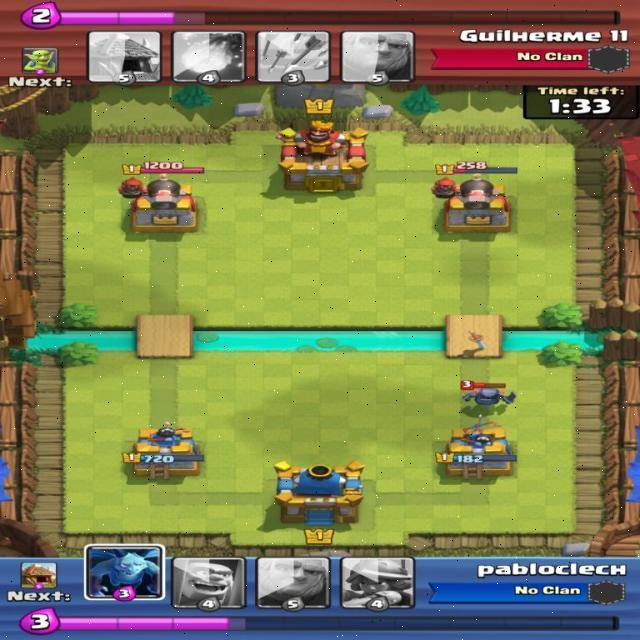ECannoneerTower: (130, 178, 197, 232), (444, 180, 510, 231)
EKingTower: (279, 126, 368, 191)
EMiniPeka: (463, 384, 515, 410)
OwnKingTower: (274, 462, 363, 525)
OwnPrincessTower: (436, 423, 516, 471), (126, 433, 203, 478)
